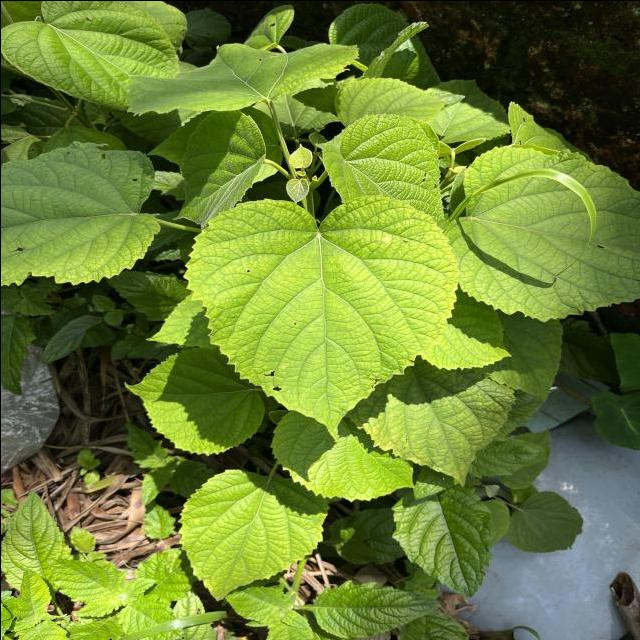Clerodendrum infortunatum: (183, 193, 462, 444), (443, 143, 640, 322), (0, 138, 164, 288), (176, 466, 332, 604), (0, 0, 178, 113), (122, 343, 266, 462), (268, 410, 412, 500)
